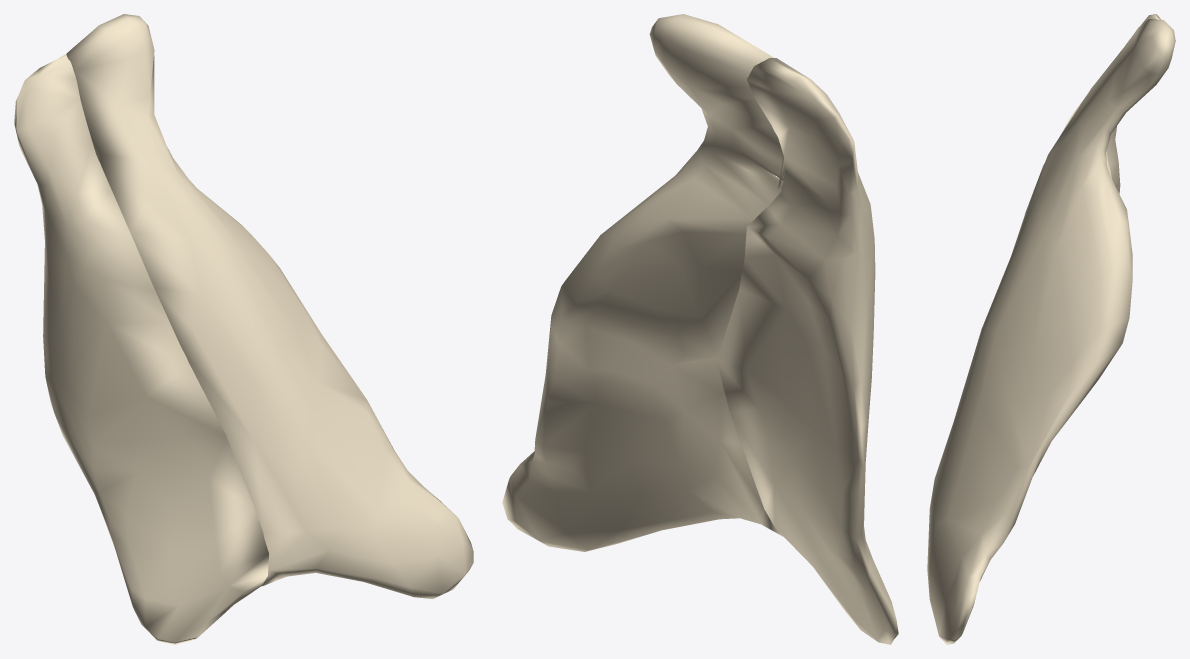
Rendered from 3d-vh-f-thymus_lod_20.glb.
The picture shows the model from 3 angles, left to right: view 1: azimuth 30°, elevation 25°; view 2: azimuth 150°, elevation 25°; view 3: azimuth 270°, elevation 25°; orthographic projection. The views are drawn at different scales.
Parts seen in each view (by area): view 1: VH_F_thymus_lobe_L, VH_F_thymus_lobe_R; view 2: VH_F_thymus_lobe_L, VH_F_thymus_lobe_R; view 3: VH_F_thymus_lobe_L, VH_F_thymus_lobe_R.
Boxes of the visible parts, left/top/right/bottom form: VH_F_thymus_lobe_L: left=66, top=14, right=473, bottom=598; VH_F_thymus_lobe_R: left=14, top=54, right=268, bottom=644; VH_F_thymus_lobe_L: left=502, top=14, right=784, bottom=551; VH_F_thymus_lobe_R: left=717, top=58, right=898, bottom=644; VH_F_thymus_lobe_L: left=927, top=19, right=1175, bottom=644; VH_F_thymus_lobe_R: left=1025, top=14, right=1160, bottom=212.
Bounding box in the file's own units: 0.0862 × 0.1236 × 0.0538.
